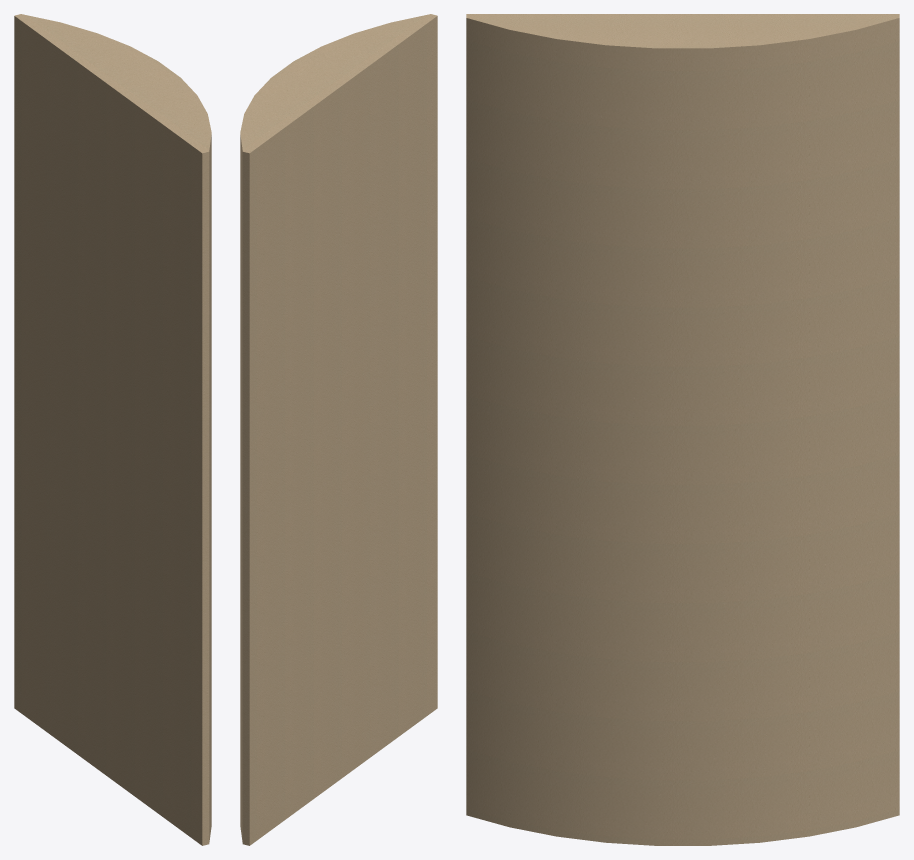
File: FAST Radii.glb
3 views of the same model, side by side, from view 1: azimuth 30°, elevation 25°; view 2: azimuth 150°, elevation 25°; view 3: azimuth 270°, elevation 25° (orthographic). The views are drawn at different scales.
Parts seen in each view (by area): view 1: FAST Radii v1; view 2: FAST Radii v1; view 3: FAST Radii v1.
Boxes of the visible parts, x1=… form: FAST Radii v1: x1=14, y1=14, x2=211, y2=845; FAST Radii v1: x1=240, y1=14, x2=437, y2=845; FAST Radii v1: x1=466, y1=14, x2=899, y2=845.
Bounding box in the file's own units: 4.45 × 48 × 23.63.
Materials: 1 (1 with a texture image).
